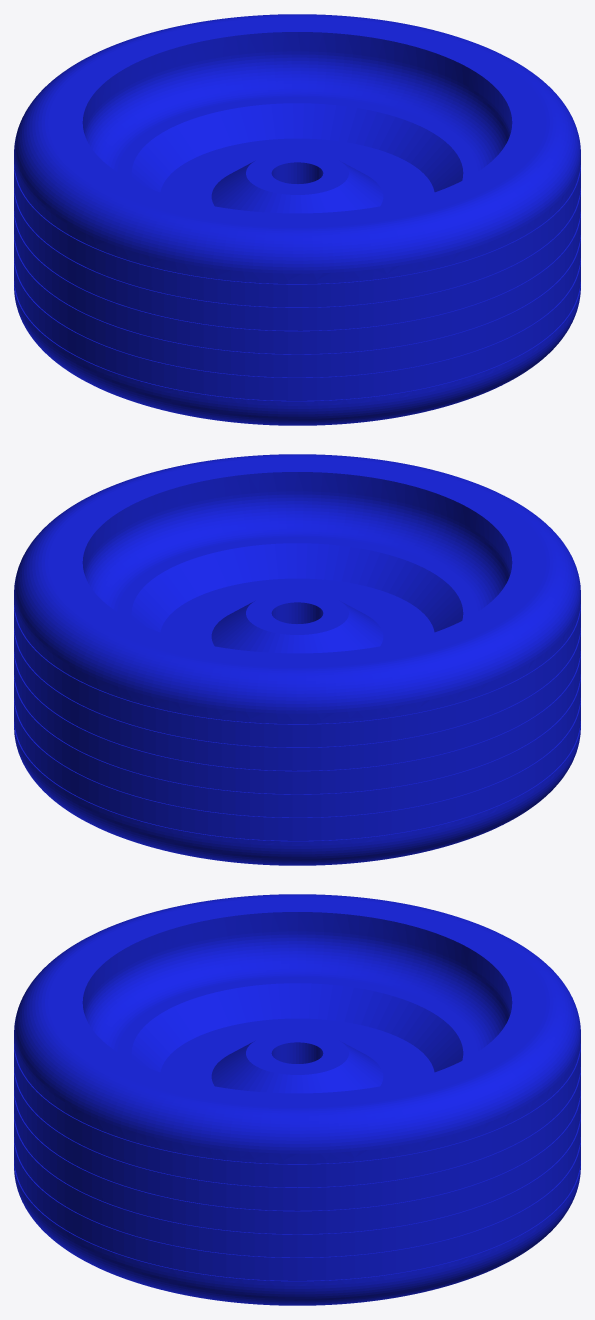
Rendered from wheel_blue.dae.
3 renders of one model, top to bottom at view 1: azimuth 30°, elevation 25°; view 2: azimuth 150°, elevation 25°; view 3: azimuth 270°, elevation 25°, orthographic.
Parts seen in each view (by area): view 1: Wheel 1; view 2: Wheel 1; view 3: Wheel 1.
Part boxes in pixels (x1,y1,x2,y2): Wheel 1: [14, 14, 580, 425]; Wheel 1: [14, 454, 580, 865]; Wheel 1: [14, 894, 580, 1305].
Size of the model in its own units: 0.066 by 0.066 by 0.025.
